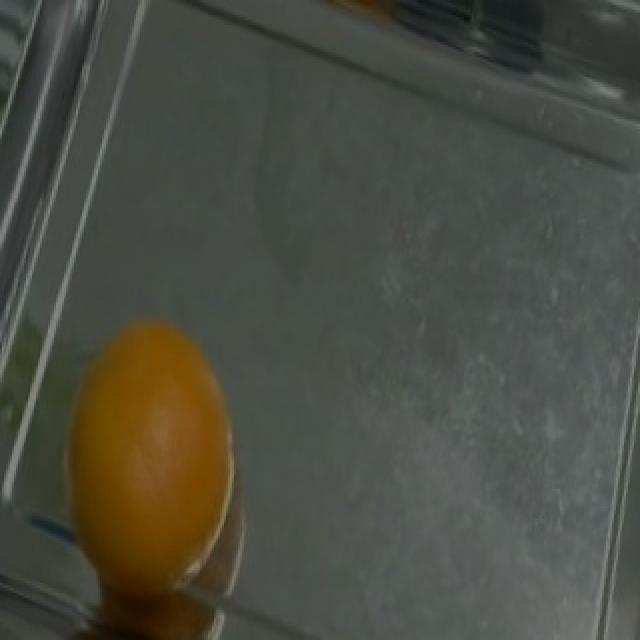Fruit: (40, 293, 264, 625)
